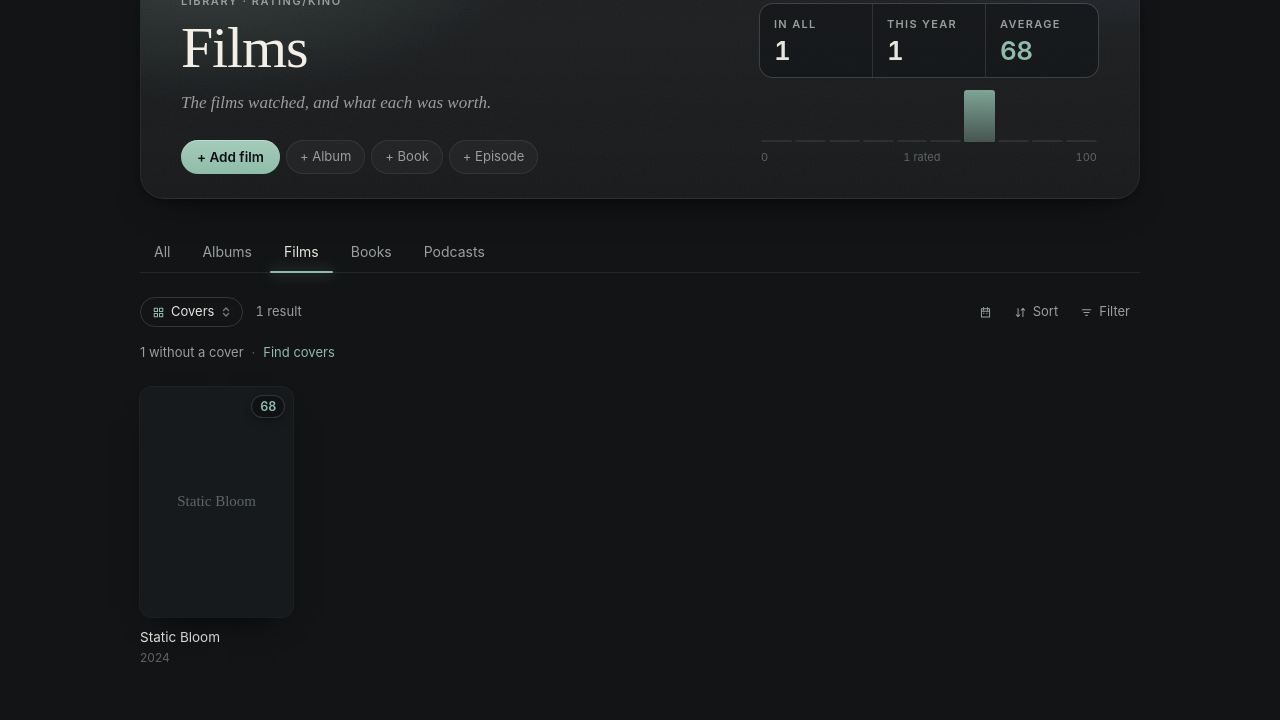
the library's All tab › has an Add for every kind in the hero, on every tab, the tab's own first, in the primary button
// On the films' tab, adding a podcast episode is a click away.
Click the button with test id "library-add" showing "+ Episode" at (494, 157), box [449,140,538,174]
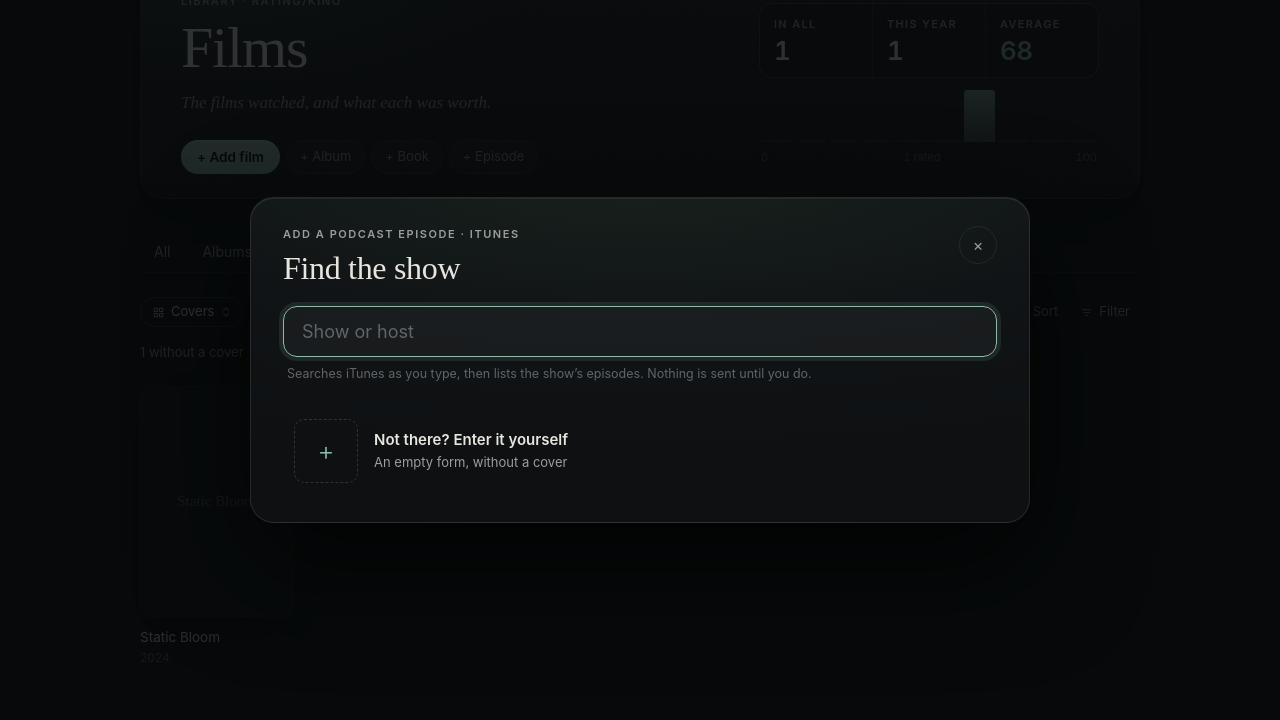
Expected: the dialog named "Add an episode" is shown, [250,197,1030,523]
